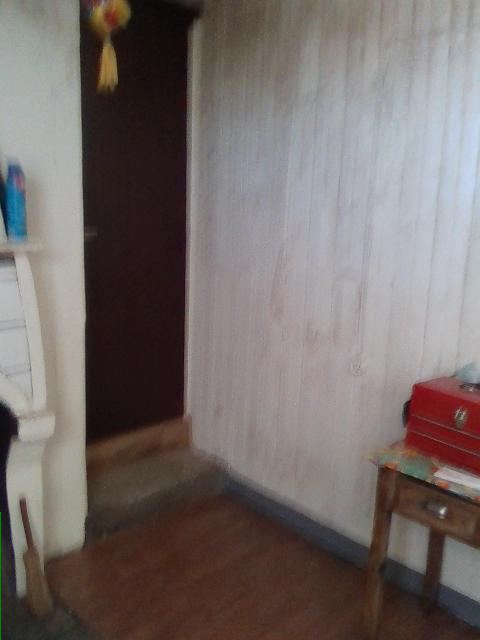door: (77, 0, 193, 442)
